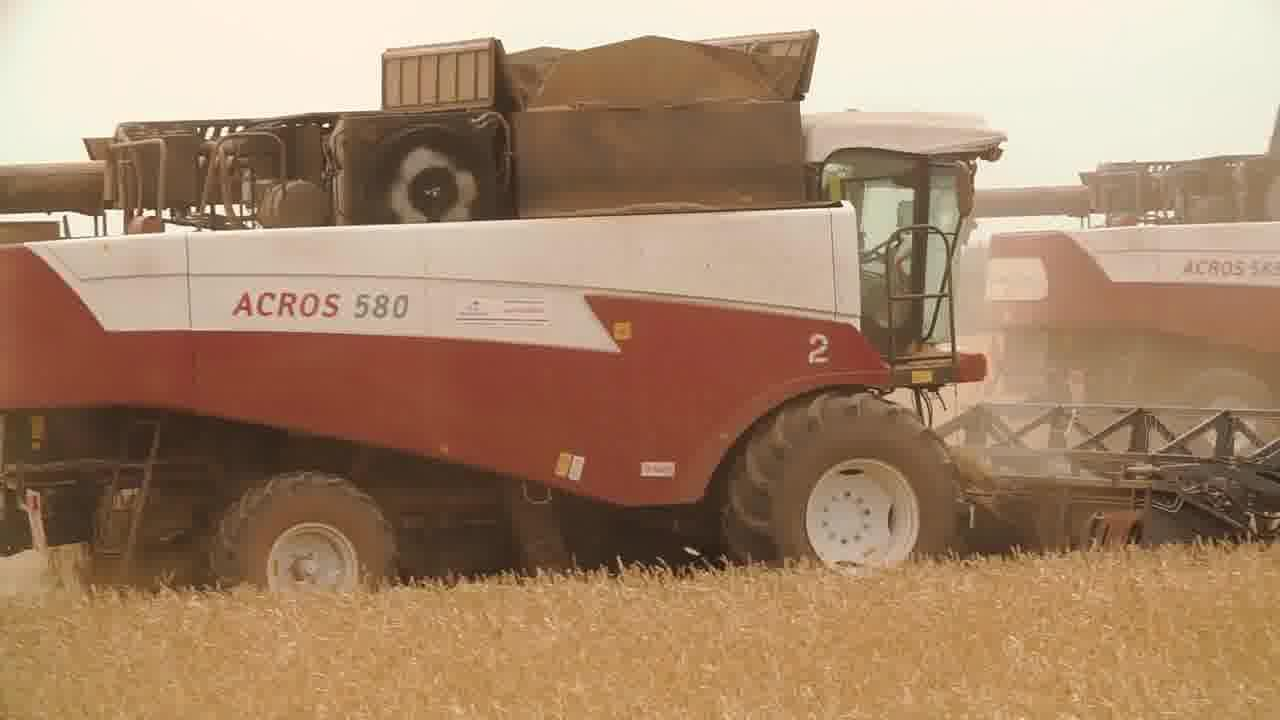combine harvester: (5, 21, 1280, 584), (986, 157, 1280, 445)
